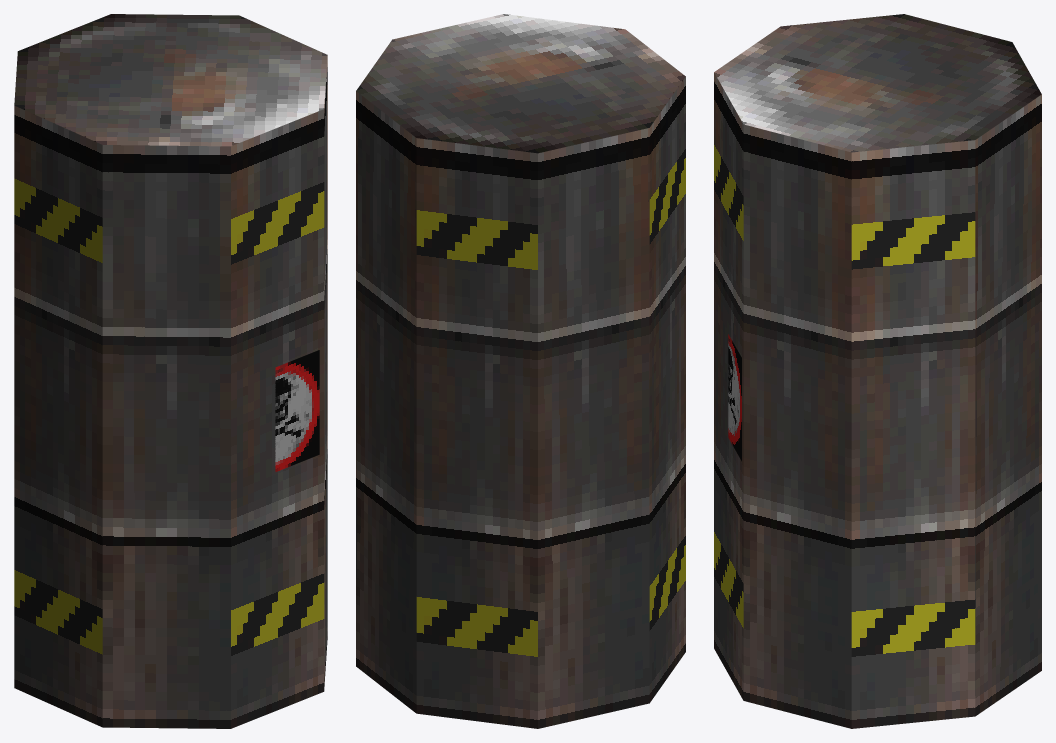
File: primary_372.glb
3 views of the same model, side by side, from view 1: azimuth 30°, elevation 25°; view 2: azimuth 150°, elevation 25°; view 3: azimuth 270°, elevation 25° (orthographic).
Parts seen in each view (by area): view 1: Object; view 2: Object; view 3: Object.
Part boxes in pixels (left/top/right/bottom): Object: left=14, top=14, right=327, bottom=728; Object: left=356, top=14, right=685, bottom=728; Object: left=714, top=14, right=1041, bottom=728.
Size of the model in its own units: 0.7704 by 1.49 by 0.7704.
Materials: 9 (9 with a texture image).
